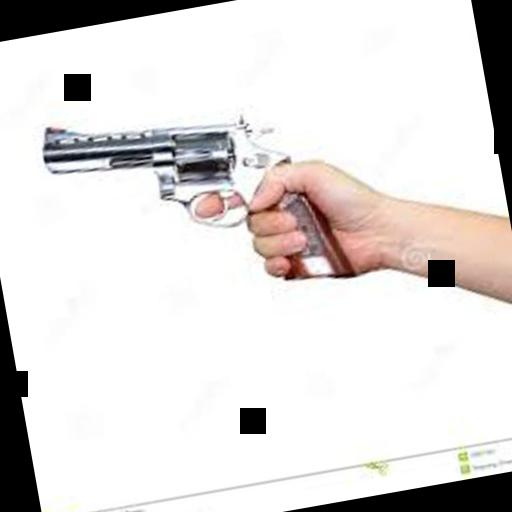Handgun: (34, 72, 350, 328)
